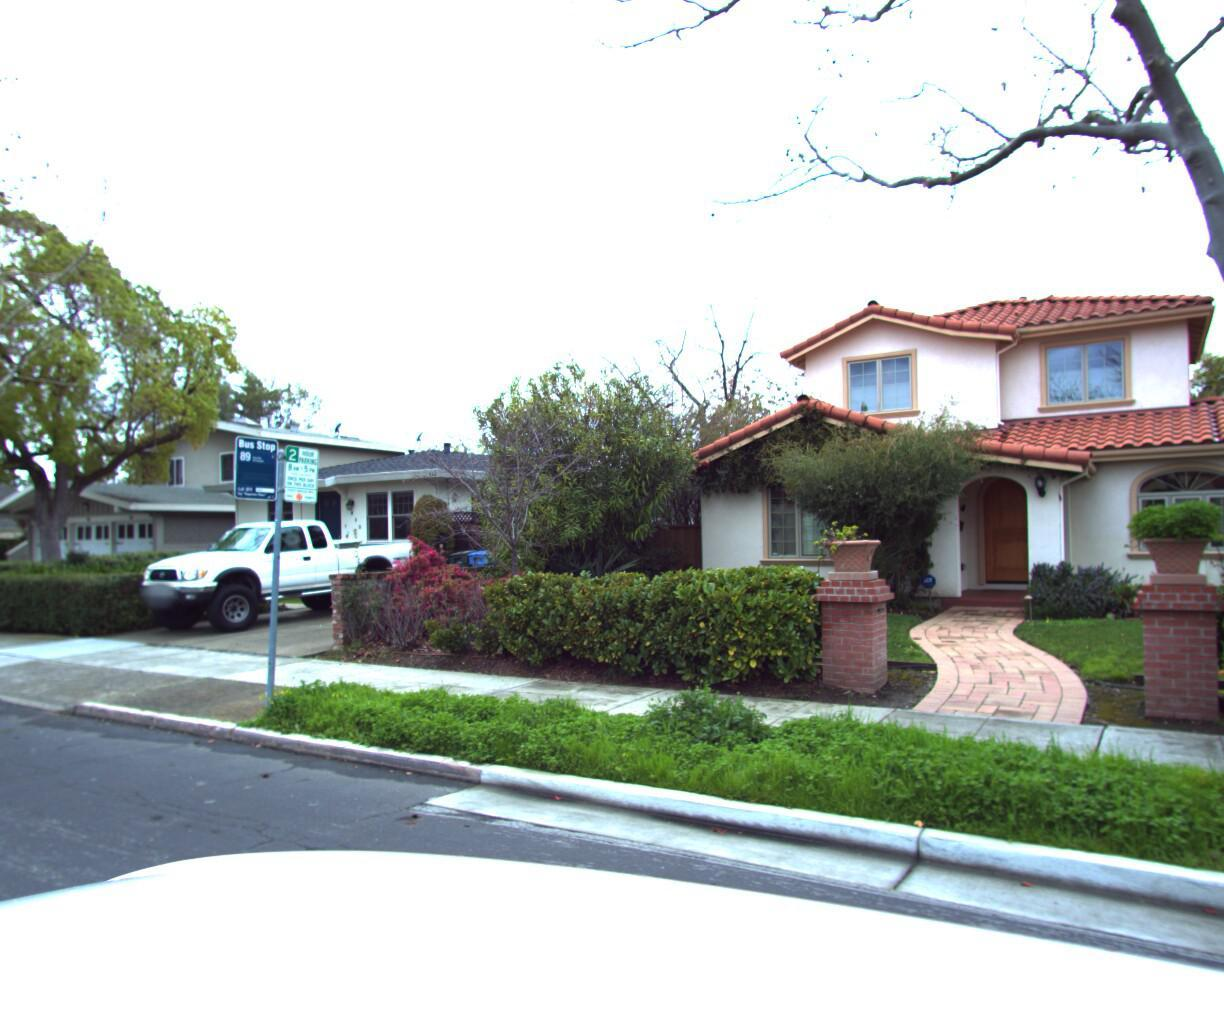car: (116, 520, 427, 644)
